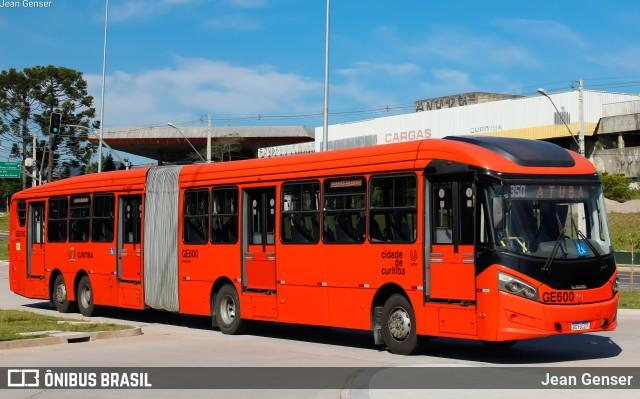ATUBA: (533, 182, 588, 202)
